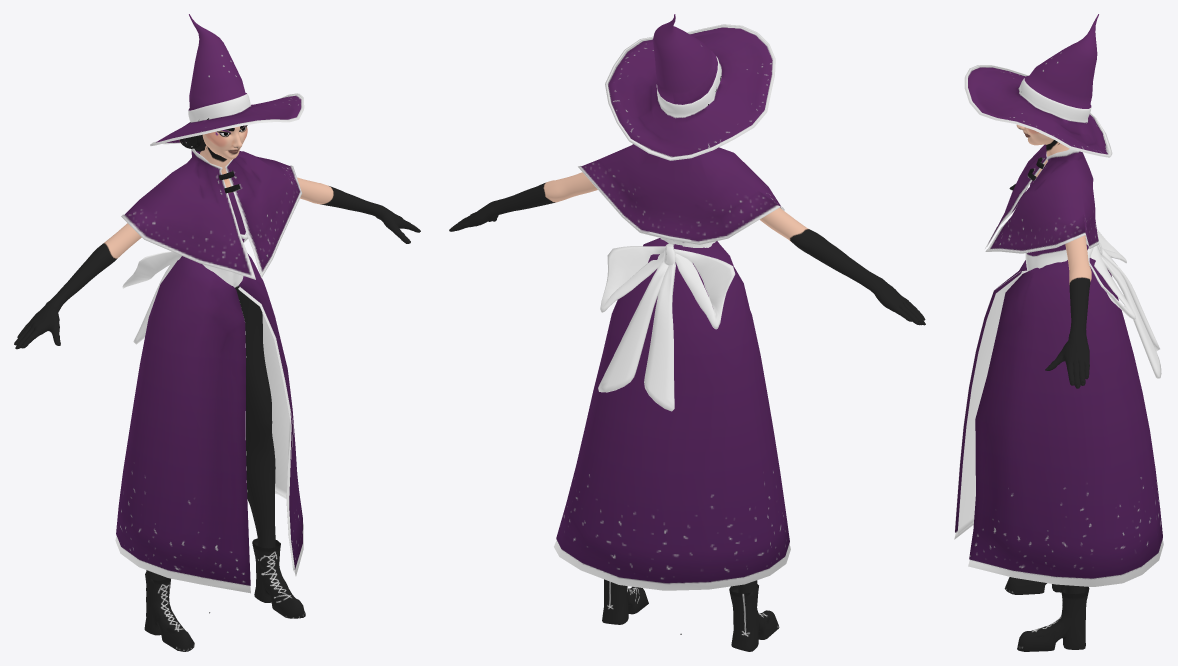
The model's file is witch_body.glb.
3 views of the same model, side by side, from view 1: azimuth 30°, elevation 25°; view 2: azimuth 150°, elevation 25°; view 3: azimuth 270°, elevation 25° (orthographic). The views are drawn at different scales.
Parts seen in each view (by area): view 1: f_an03.002_MBLab_human_female.001; view 2: f_an03.002_MBLab_human_female.001; view 3: f_an03.002_MBLab_human_female.001.
Part boxes in pixels (x1=…): f_an03.002_MBLab_human_female.001: x1=14, y1=14, x2=420, y2=651; f_an03.002_MBLab_human_female.001: x1=449, y1=14, x2=925, y2=651; f_an03.002_MBLab_human_female.001: x1=954, y1=14, x2=1163, y2=651.
Size of the model in its own units: 1.45 by 1.94 by 0.6135.
1 material, 1 textured.
